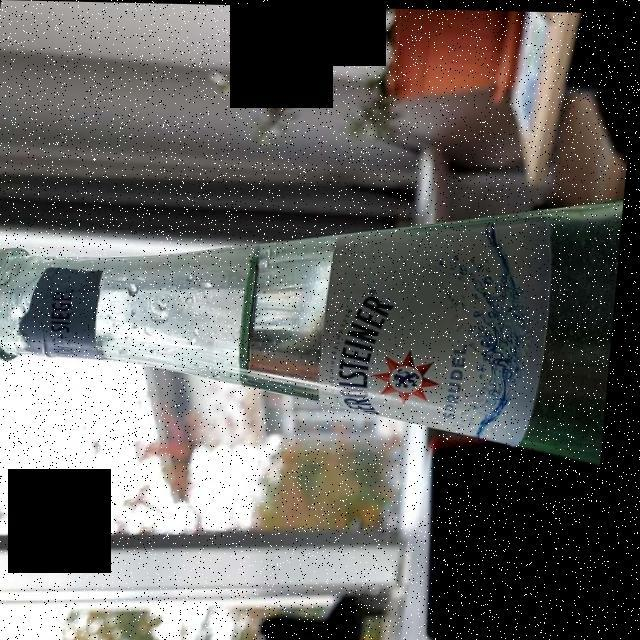water: (261, 171, 615, 459), (252, 236, 330, 399)
